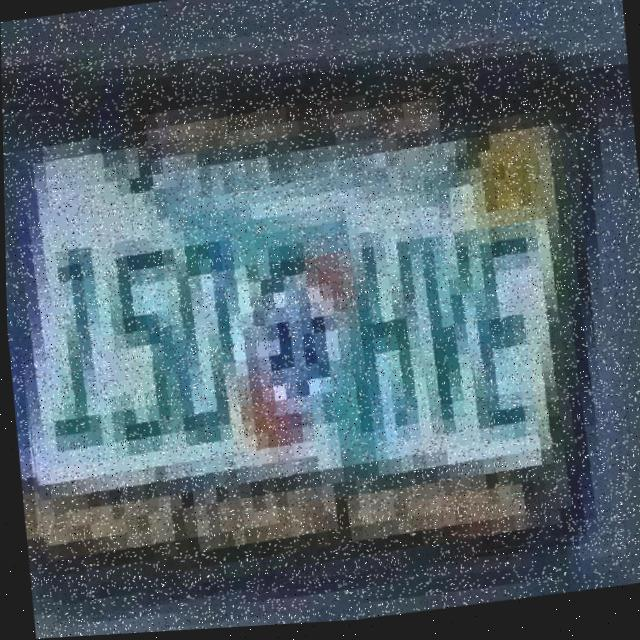LicensePlate: (1, 39, 612, 622)
